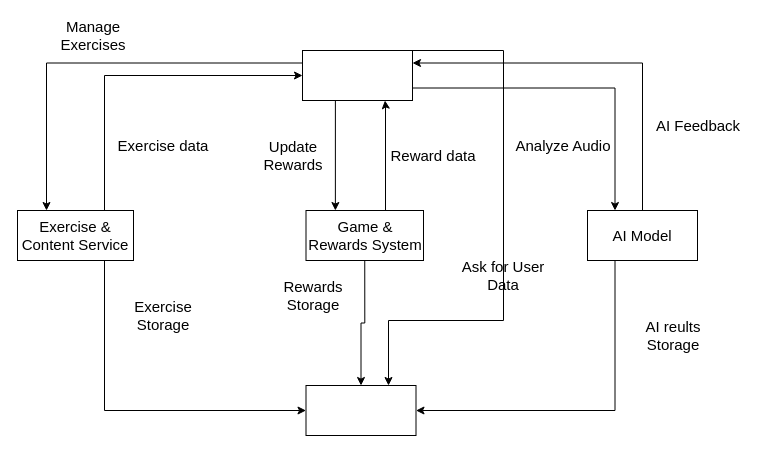
Image size: 771x453. Some labels were removed from this diagram. Each missing label, with the centre of its shape:
"Backend" belongs at pixel 357 75.
"Database" belongs at pixel 360 410.
